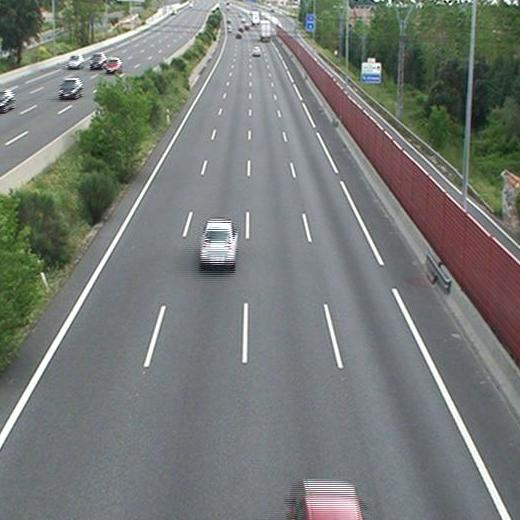car: (199, 219, 235, 265), (252, 46, 261, 57)
truck: (259, 20, 270, 41)
